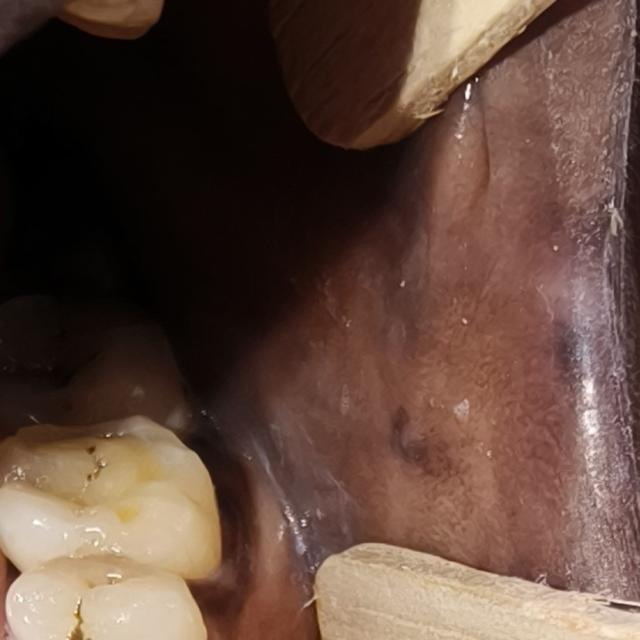leukoplakia-detection: (236, 168, 449, 589)
processing_area: (230, 10, 622, 639)
